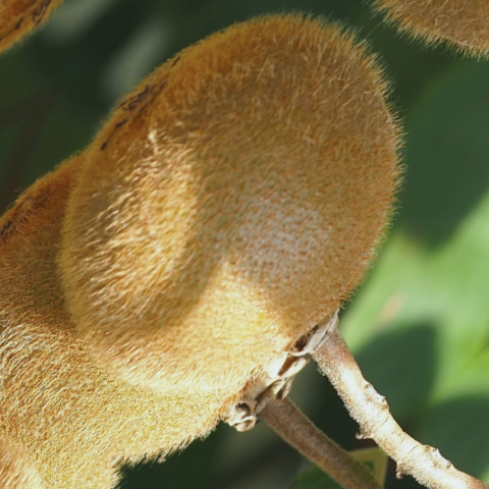kiwi: (0, 0, 489, 470)
